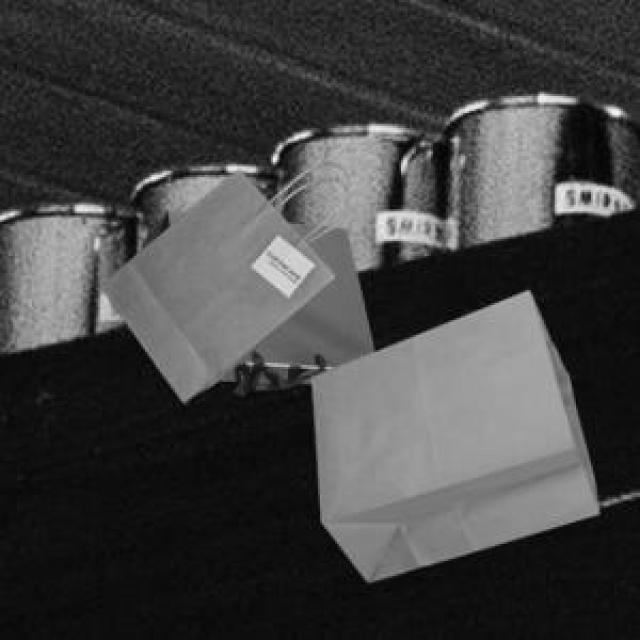paper: (309, 286, 595, 578), (98, 166, 331, 399), (143, 207, 369, 393)
